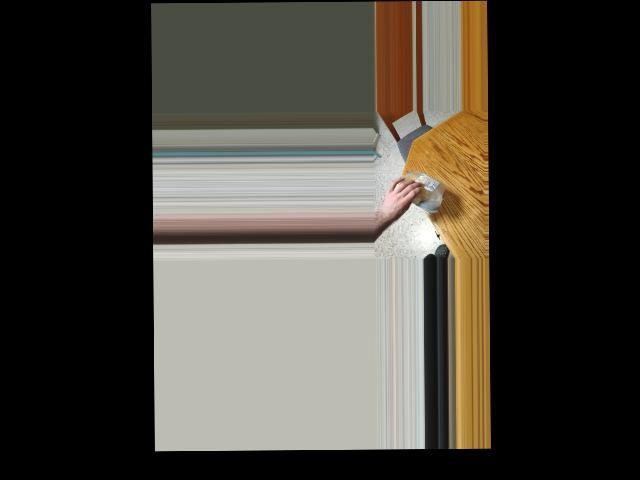cheese: (401, 172, 441, 201)
